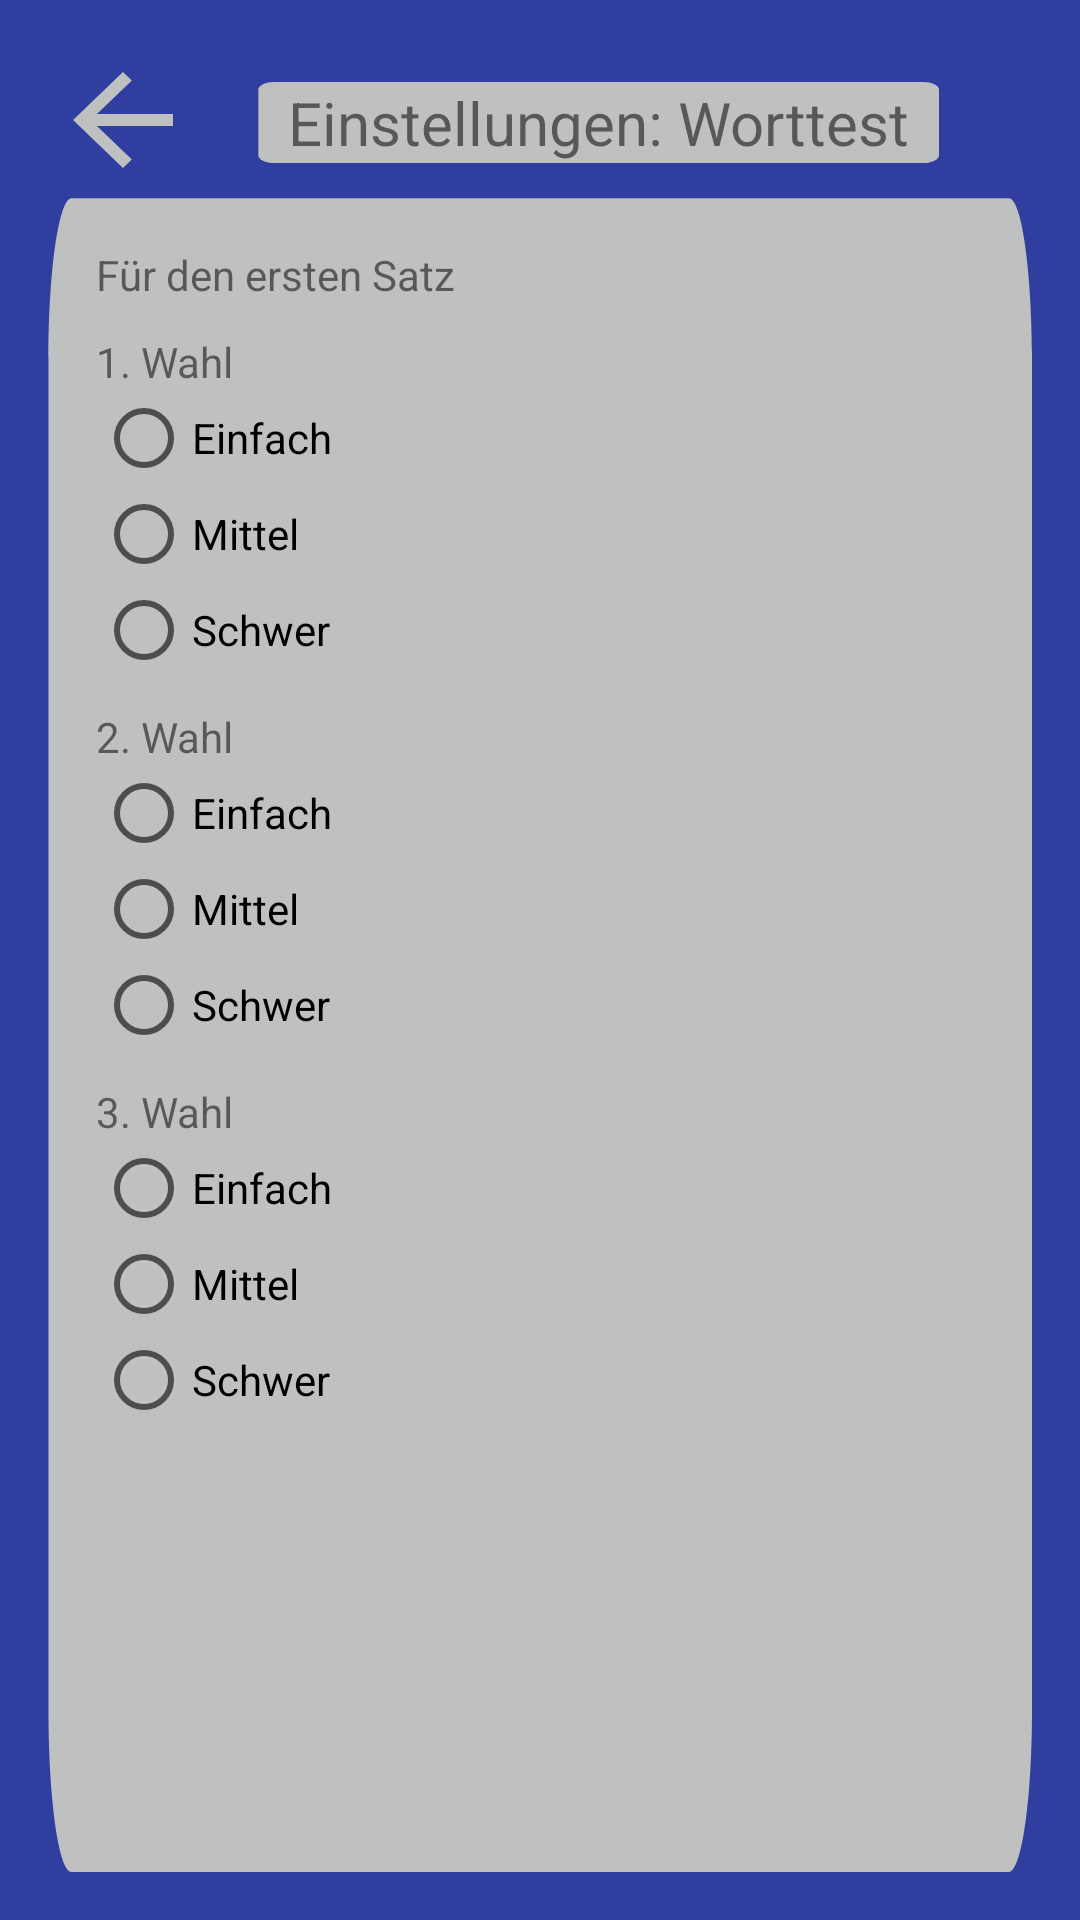

Icon bounding boxes for this 1080px×1920px phone screenshot, format (x1, y1, x2, y2):
arrow back: (73, 72, 173, 168)
